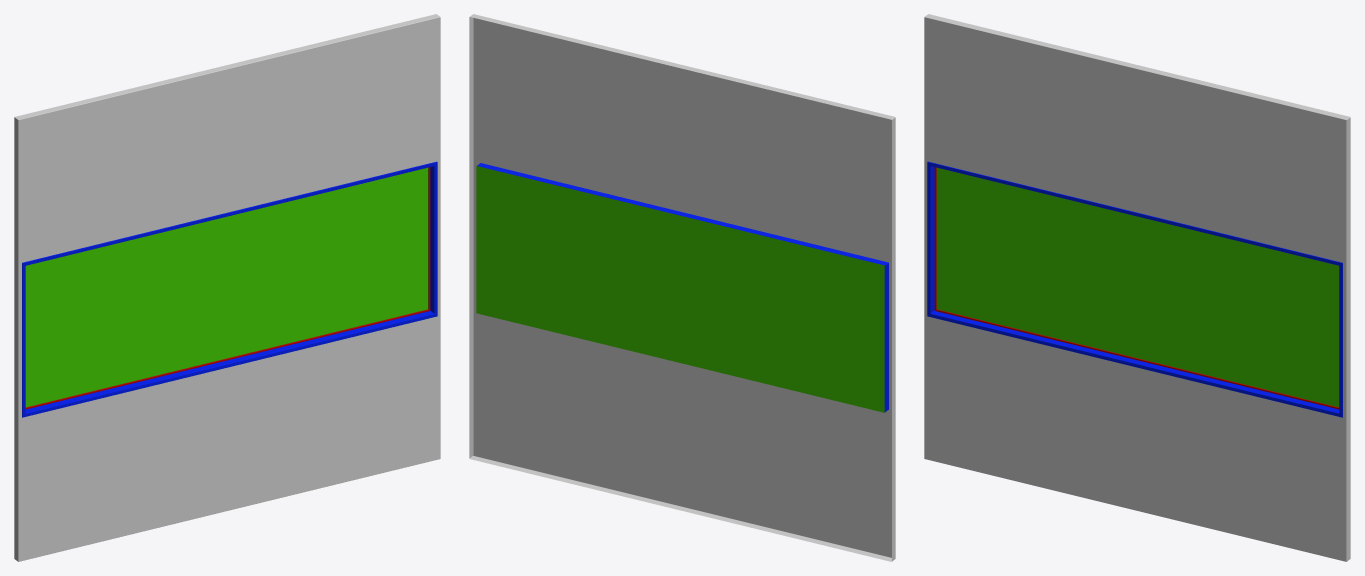
Rendered from Wall03Window.fbx.
The picture shows the model from 3 angles, left to right: view 1: azimuth 30°, elevation 25°; view 2: azimuth 150°, elevation 25°; view 3: azimuth 330°, elevation 25°; orthographic projection.
Parts seen in each view (by area): view 1: Wall03Window; view 2: Wall03Window; view 3: Wall03Window.
Boxes of the visible parts, x1=… form: Wall03Window: x1=14, y1=14, x2=440, y2=561; Wall03Window: x1=469, y1=14, x2=895, y2=561; Wall03Window: x1=924, y1=14, x2=1350, y2=561.
Bounding box in the file's own units: 300 × 300 × 5.5.
